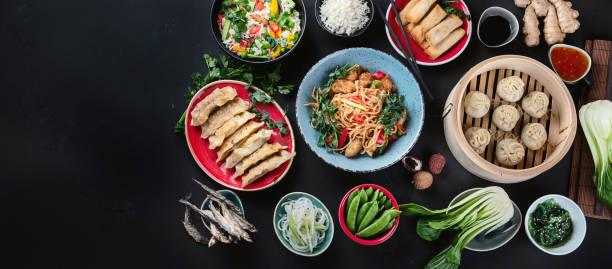Braised Crucian Carp: (441, 54, 576, 185), (294, 46, 422, 175), (184, 79, 293, 191), (209, 0, 304, 64), (383, 0, 471, 67)
